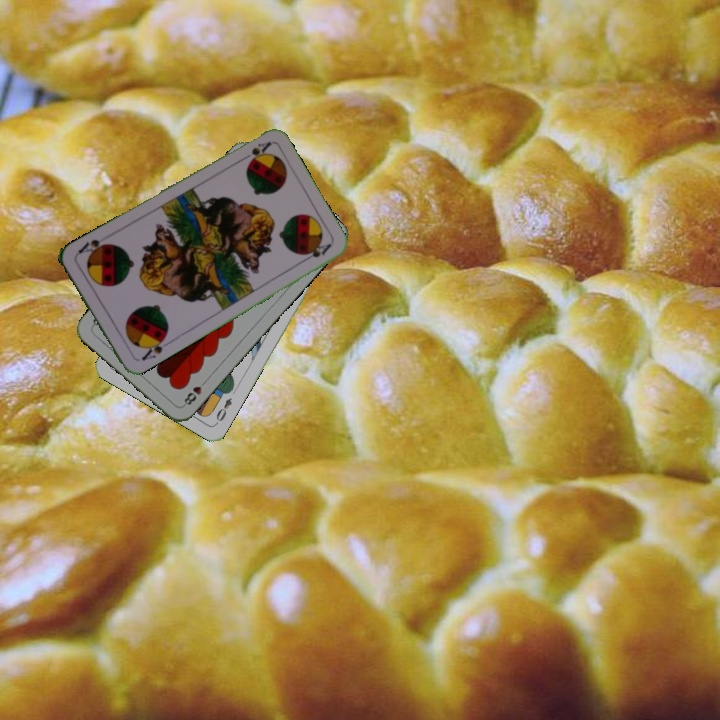EO: (212, 393, 234, 427)
H8: (179, 375, 210, 409)
SA: (236, 137, 274, 165), (137, 333, 172, 363)
